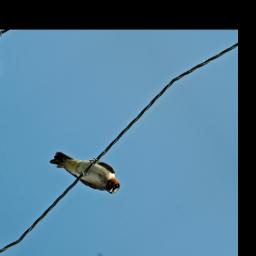Swallow: (46, 130, 127, 216)
